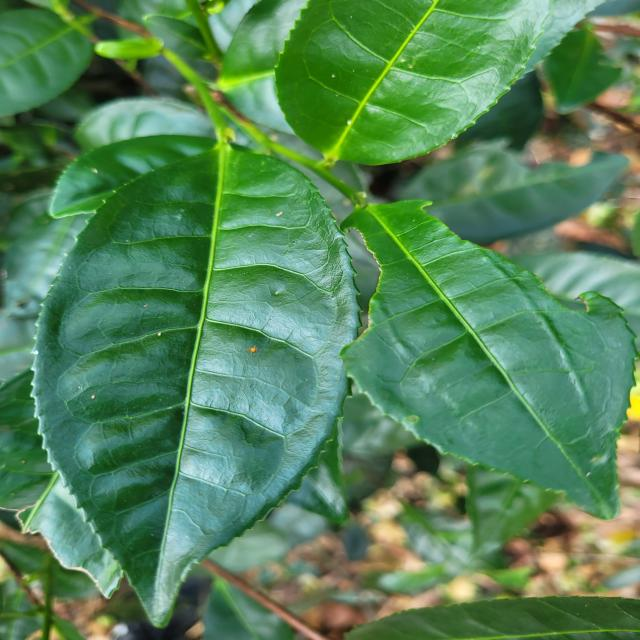Category D(7+ days, Not for Tea): (13, 108, 384, 635)
